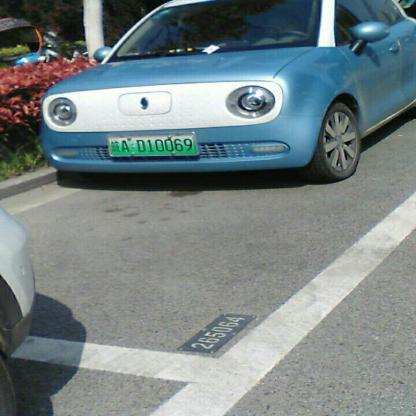lp: (107, 134, 198, 154)
